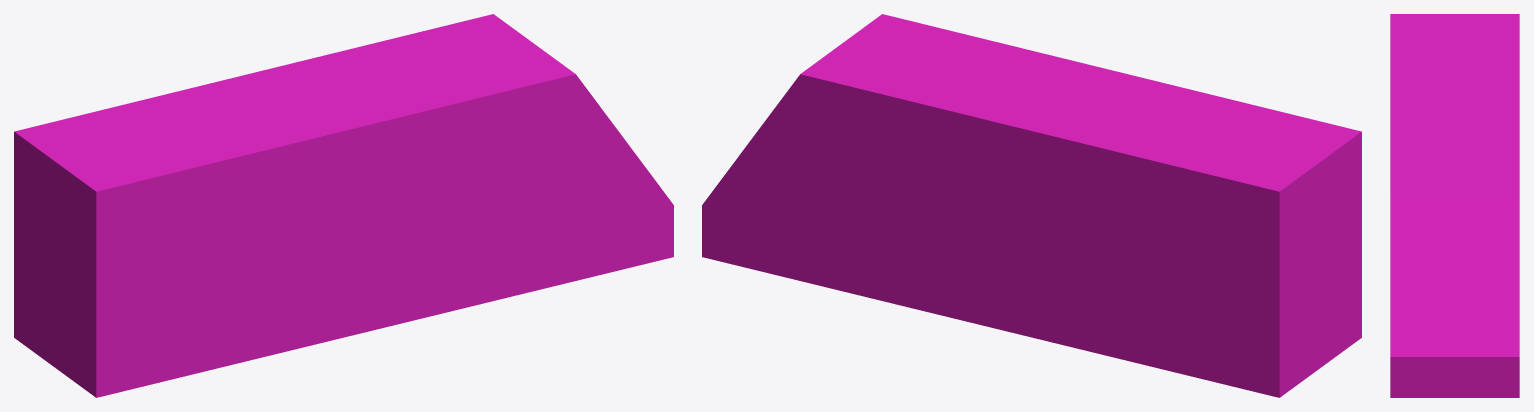
Rendered from building4.fbx.
The picture shows the model from 3 angles, left to right: view 1: azimuth 30°, elevation 25°; view 2: azimuth 150°, elevation 25°; view 3: azimuth 270°, elevation 25°; orthographic projection. The views are drawn at different scales.
Parts seen in each view (by area): view 1: building4_COL; view 2: building4_COL; view 3: building4_COL.
Part boxes in pixels (x1,y1,x2,y2): building4_COL: (14, 14, 673, 397); building4_COL: (702, 14, 1361, 397); building4_COL: (1390, 14, 1519, 397).
Bounding box in the file's own units: 2003 × 494 × 686.
